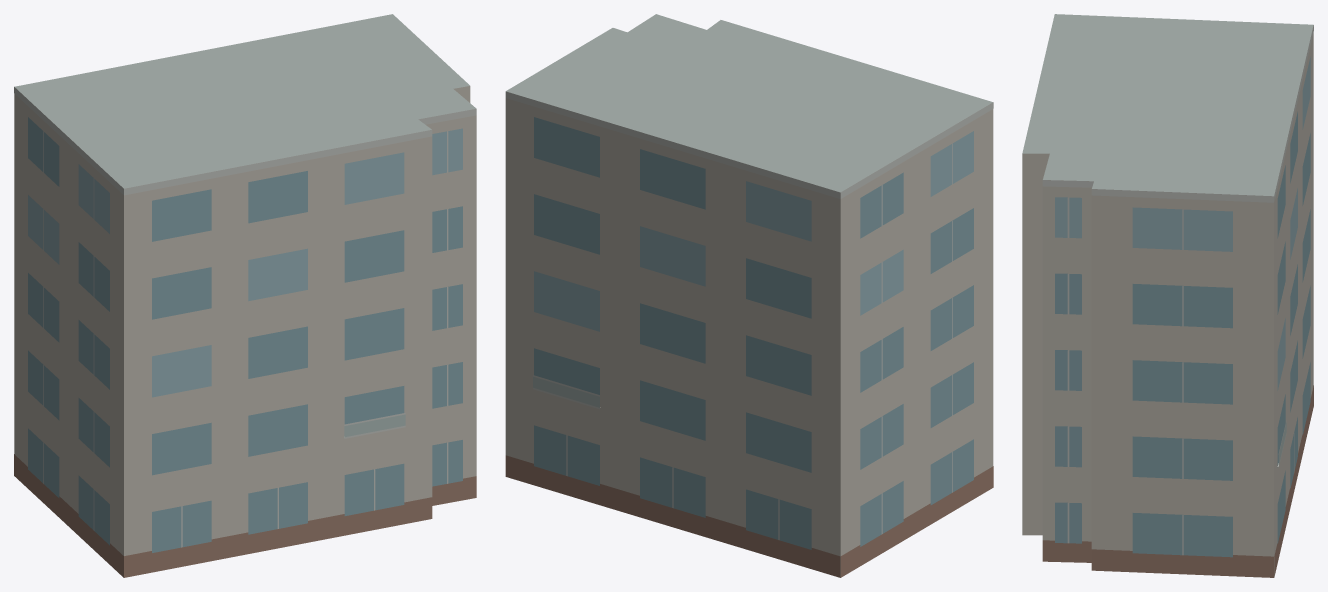
The model's file is survey-upis-32589111.glb.
3 views of the same model, side by side, from view 1: azimuth 30°, elevation 25°; view 2: azimuth 150°, elevation 25°; view 3: azimuth 270°, elevation 25° (orthographic).
Visible parts, largest first — view 1: survey-upis-32589111.tmp; view 2: survey-upis-32589111.tmp; view 3: survey-upis-32589111.tmp.
Part boxes in pixels (x1=…): survey-upis-32589111.tmp: x1=14, y1=14, x2=476, y2=577; survey-upis-32589111.tmp: x1=505, y1=14, x2=993, y2=577; survey-upis-32589111.tmp: x1=1022, y1=14, x2=1313, y2=577.
Size of the model in its own units: 14.55 by 14.2 by 9.84.
